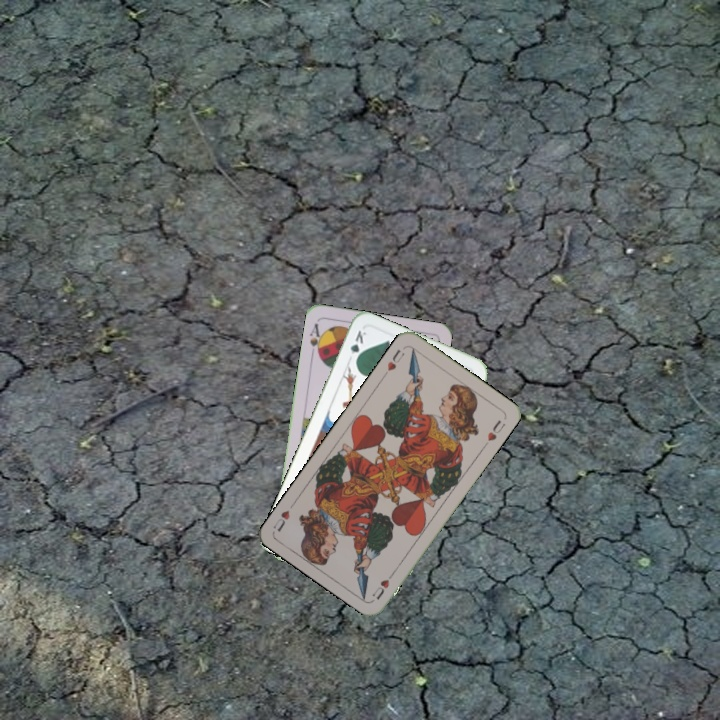GK: (346, 326, 369, 366)
HU: (368, 567, 398, 602), (383, 345, 407, 374)
SA: (305, 319, 326, 360)
